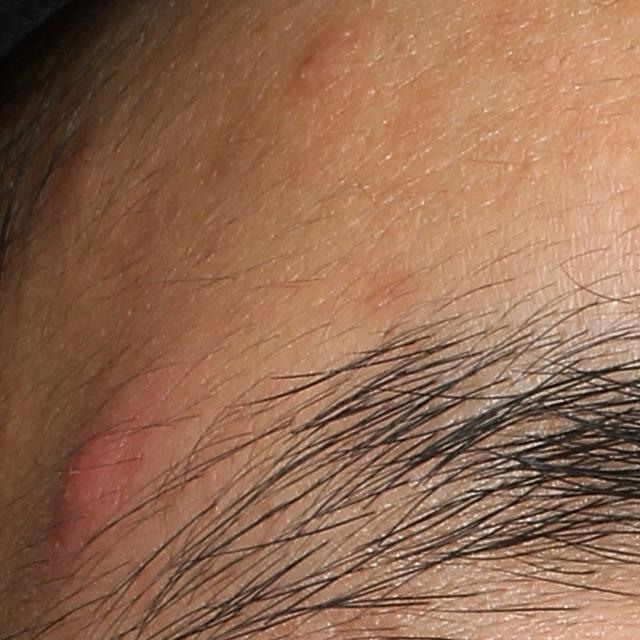nodule: (46, 412, 131, 577)
papule: (51, 131, 112, 217)
